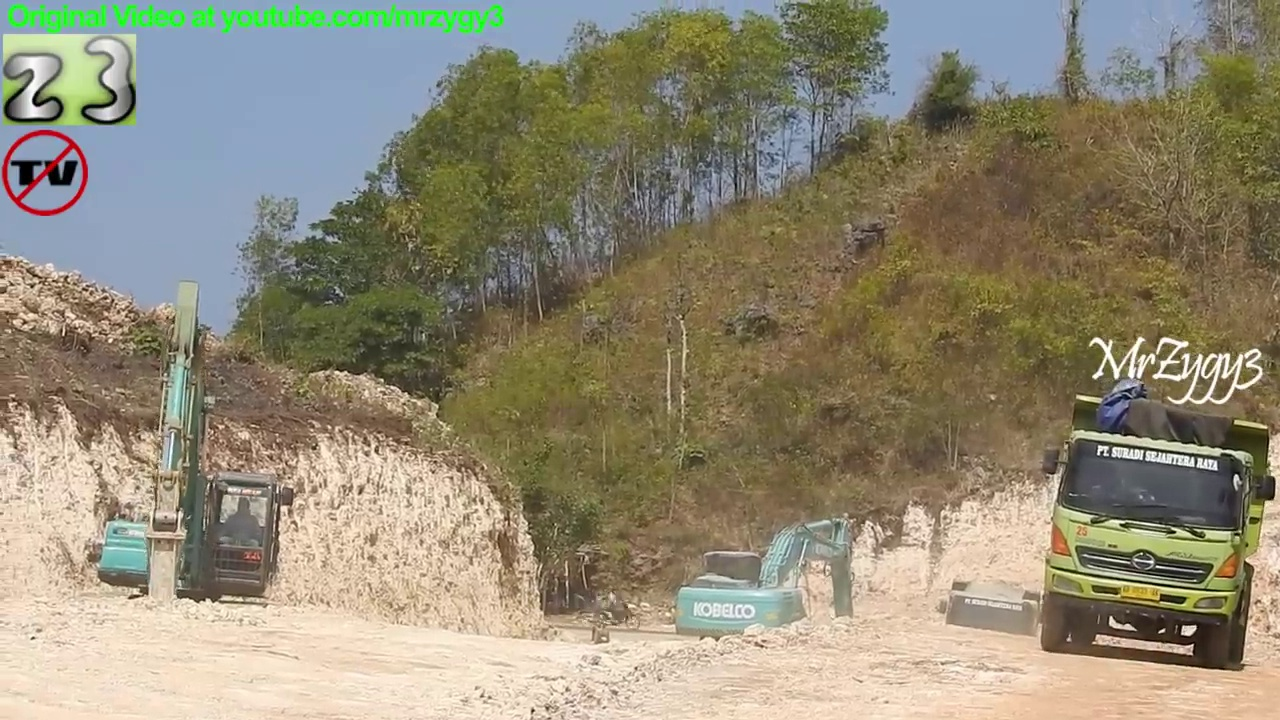excavator: (92, 276, 299, 648), (669, 507, 868, 674)
truck: (1037, 389, 1280, 680), (933, 572, 1051, 692)
